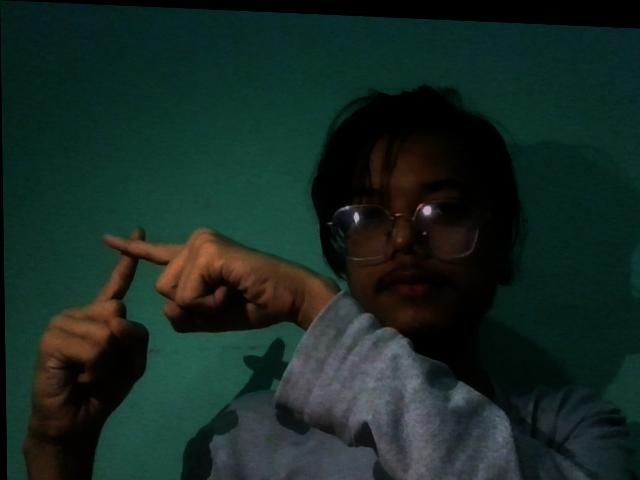When: (19, 211, 324, 475)
